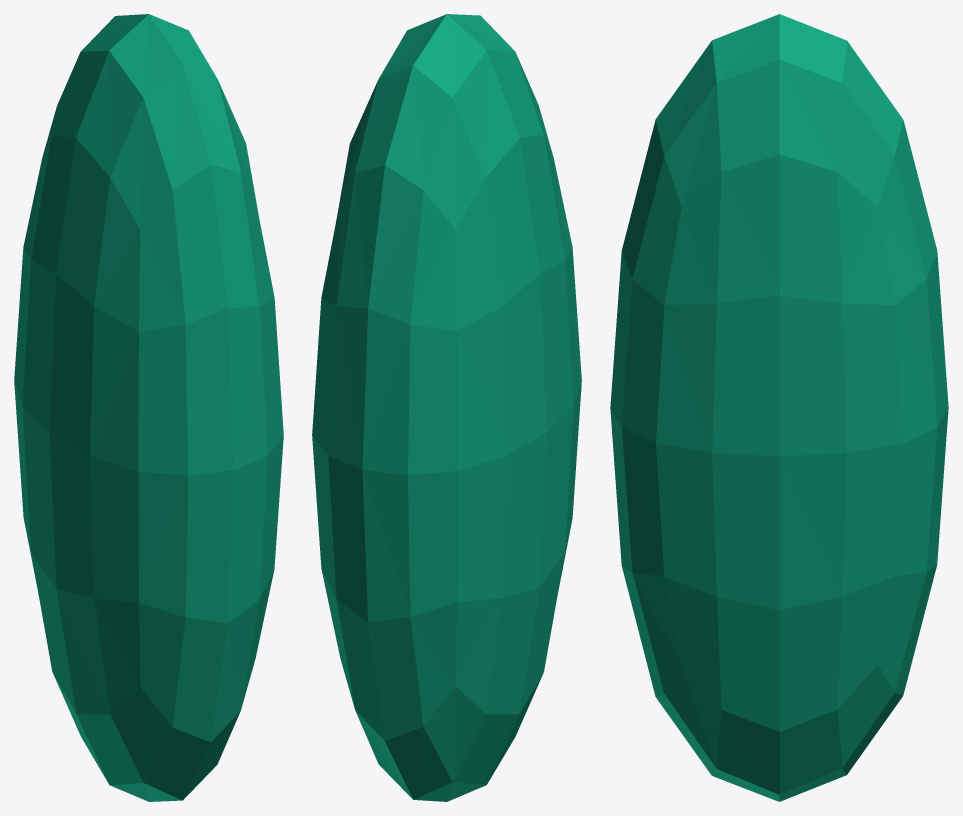
3 renders of one model, left to right at view 1: azimuth 30°, elevation 25°; view 2: azimuth 150°, elevation 25°; view 3: azimuth 270°, elevation 25°, orthographic.
Visible parts, largest first — view 1: 594_Cube.2389; view 2: 594_Cube.2389; view 3: 594_Cube.2389.
Part boxes in pixels (x1,y1,x2,y2): 594_Cube.2389: [14, 14, 283, 801]; 594_Cube.2389: [312, 14, 581, 801]; 594_Cube.2389: [610, 14, 948, 801].
Bounding box in the file's own units: 2.79 × 10.54 × 4.1.
